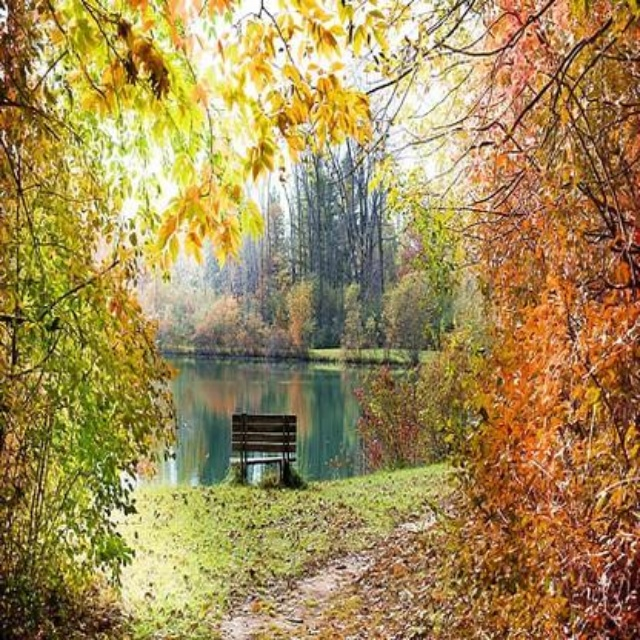obstacle: (208, 394, 318, 483)
